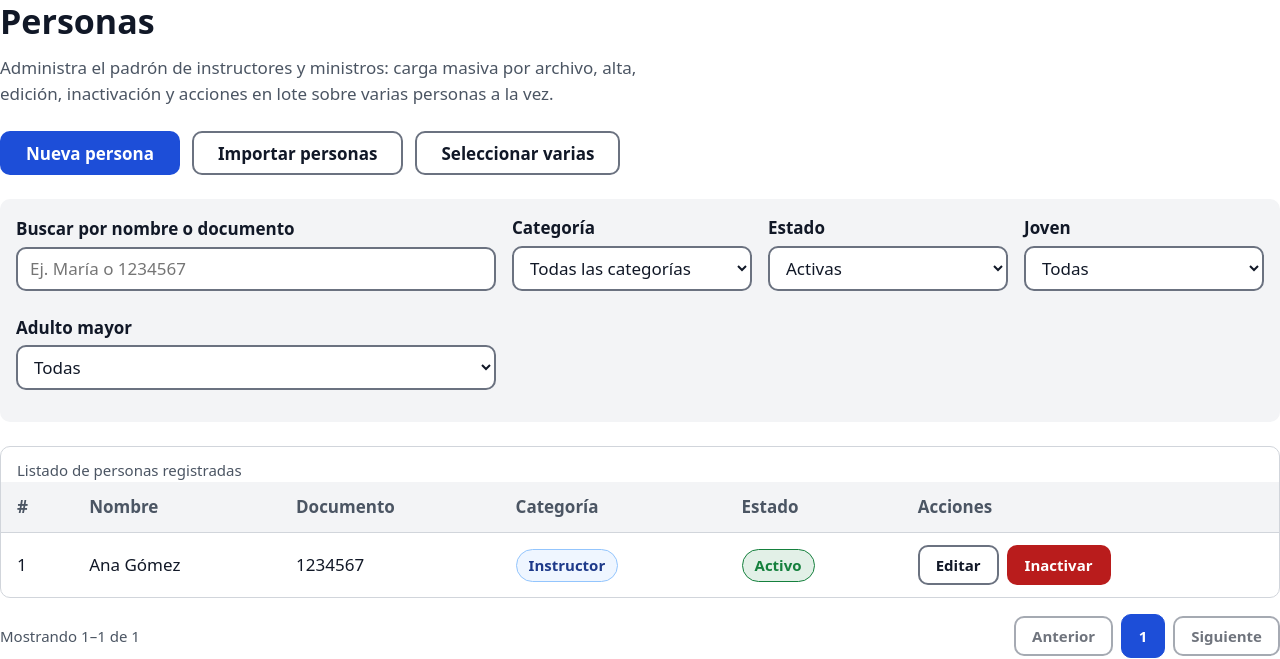
it: PeopleManager › abre el formulario de alta al pulsar «Nueva persona»
Expected: the text "Ana Gómez" is shown, left=73, top=533, right=280, bottom=598
Click the button "Nueva persona" at (90, 153), box left=0, top=131, right=180, bottom=175
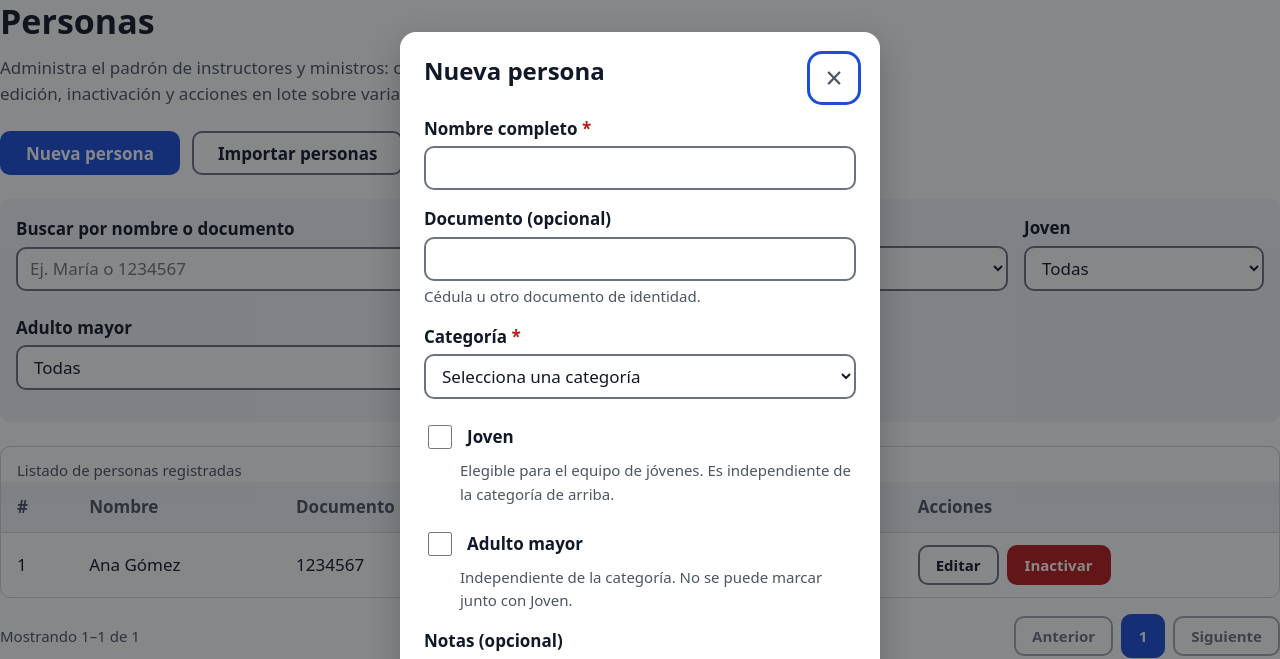
Result: the heading "Nueva persona" is shown at left=424, top=56, right=605, bottom=86
Result: the field labelled "Nombre completo *" is shown at left=424, top=146, right=856, bottom=190
